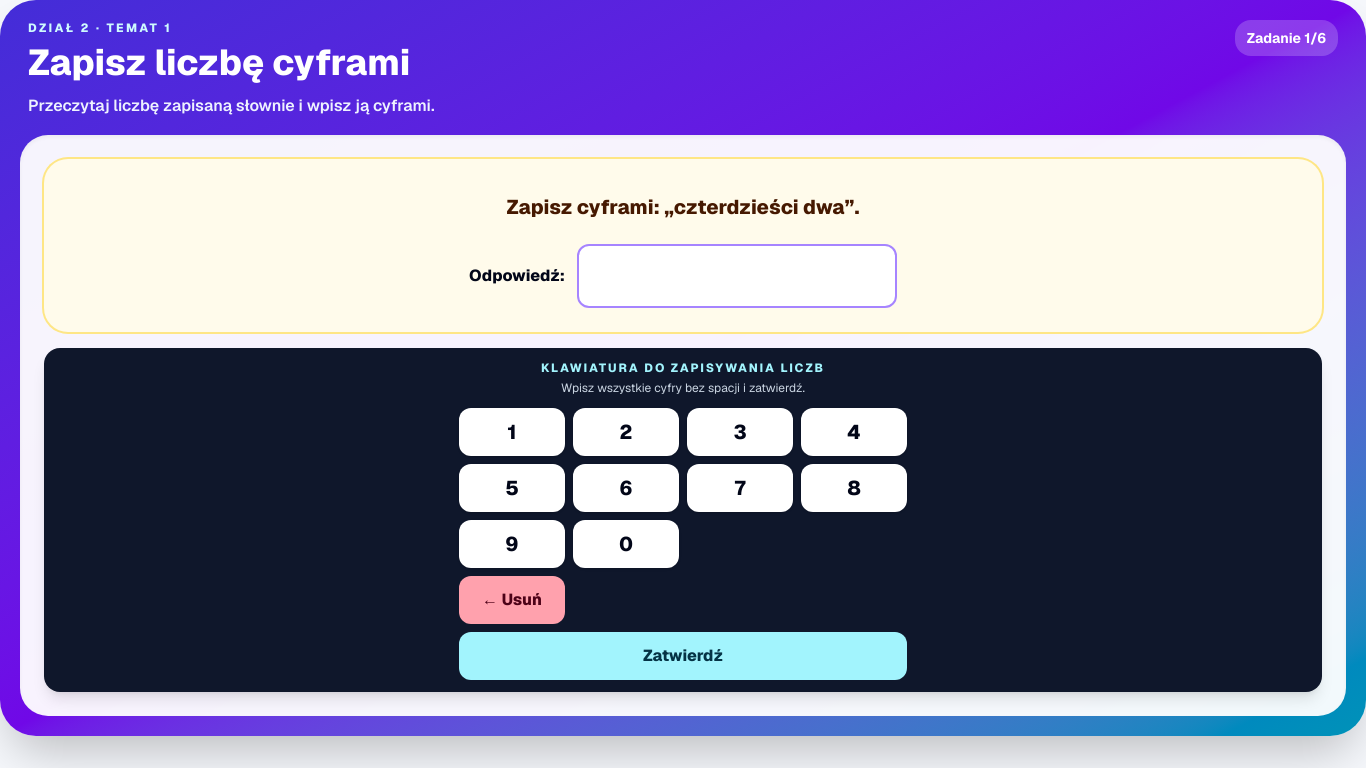
Scenario: Grade4DecimalSystemLessonLab › blokuje klawiaturę urządzenia i zalicza zapis liczby cyframi
Click the button "4". click: coordinates (854, 432)
box: [801, 408, 907, 456]
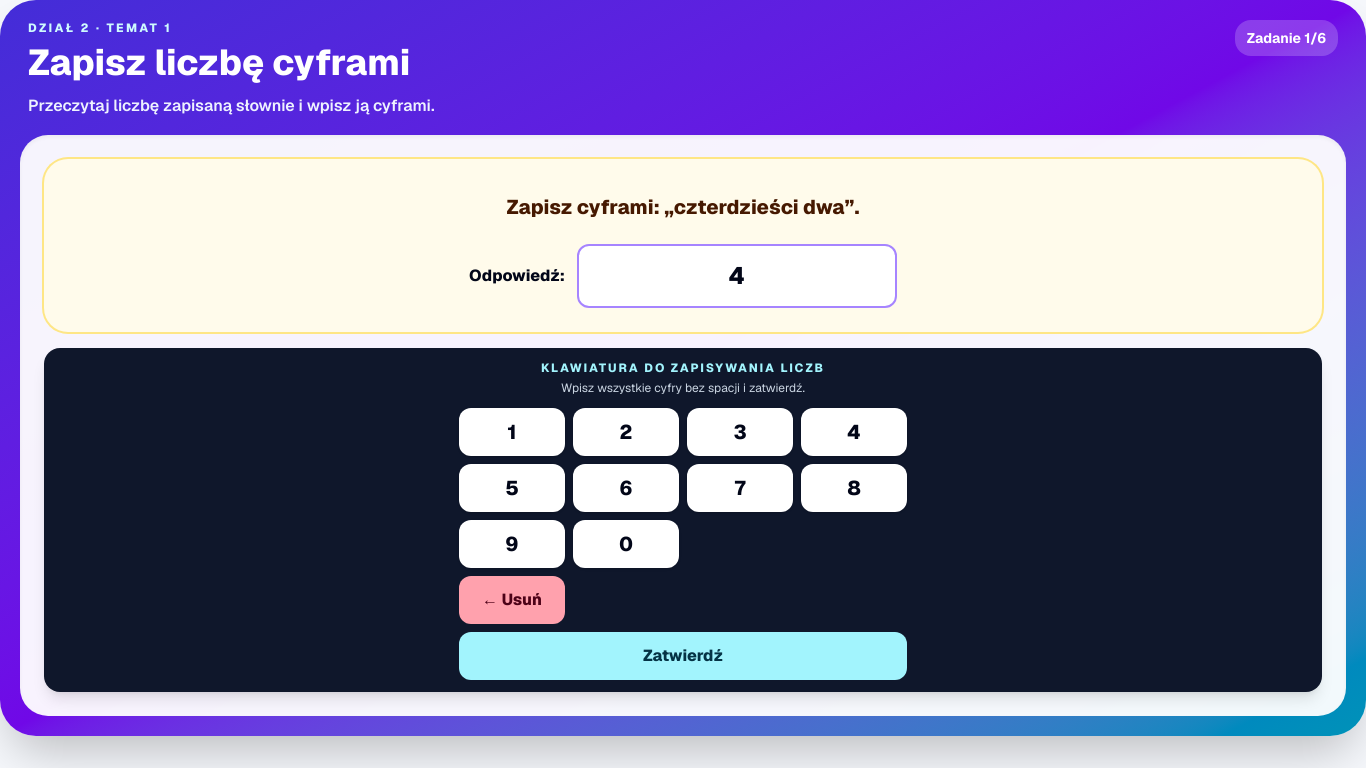
Click the button "2". click: coordinates (626, 432)
box: [573, 408, 679, 456]
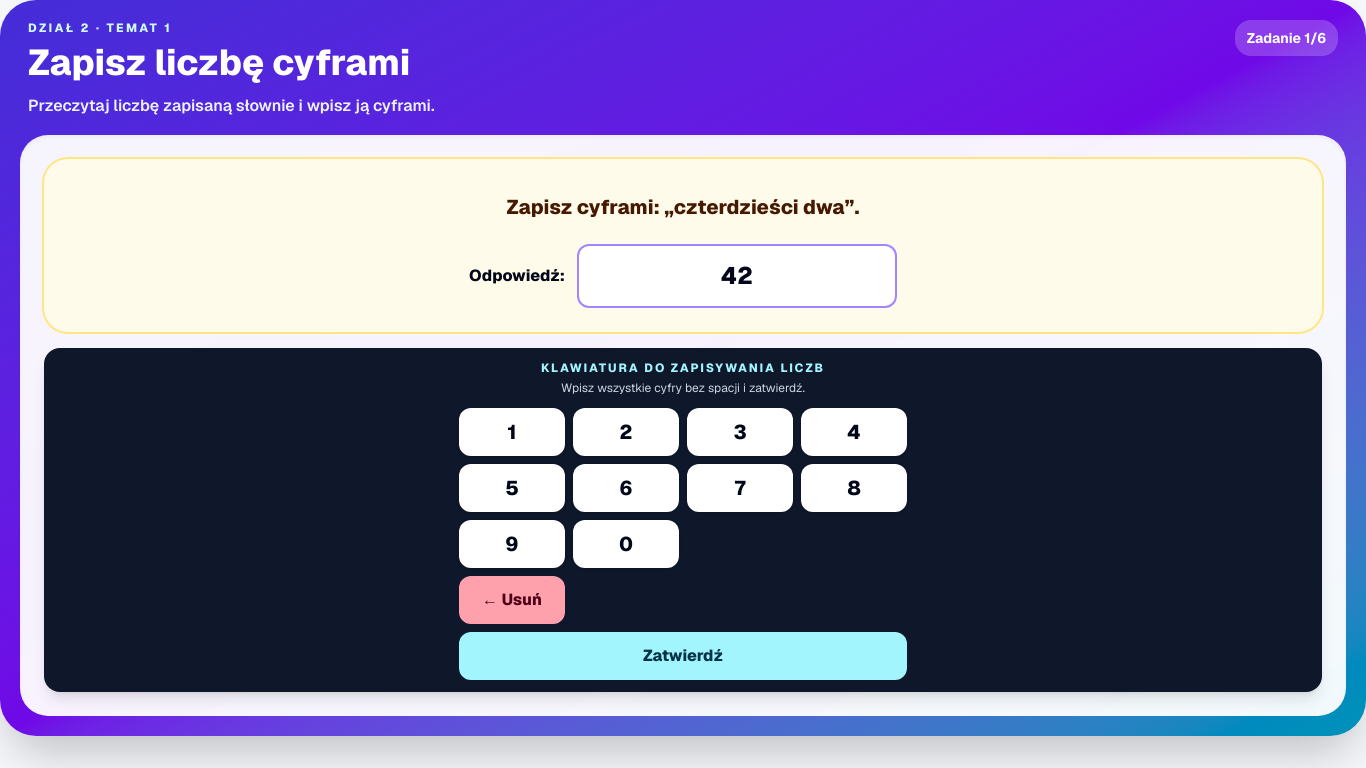
Click the button "Zatwierdź". click: coordinates (683, 656)
box: [459, 632, 907, 680]
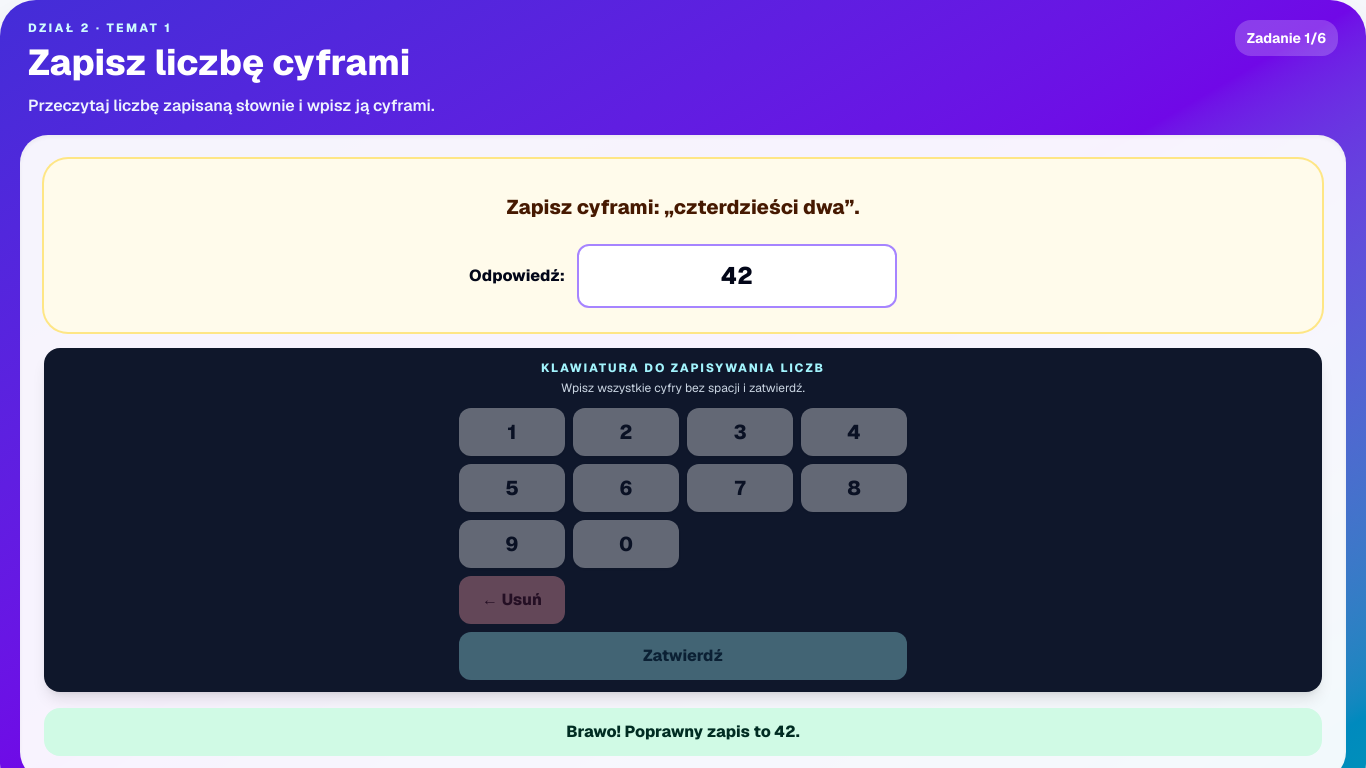
Expected: the text "Brawo! Poprawny zapis to 42." is shown, [44, 708, 1322, 756]
